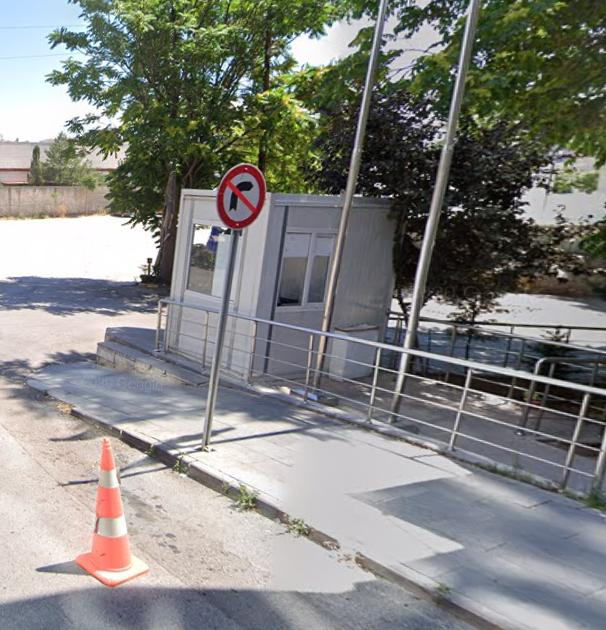rightturnsareforbidden: (218, 165, 261, 225)
